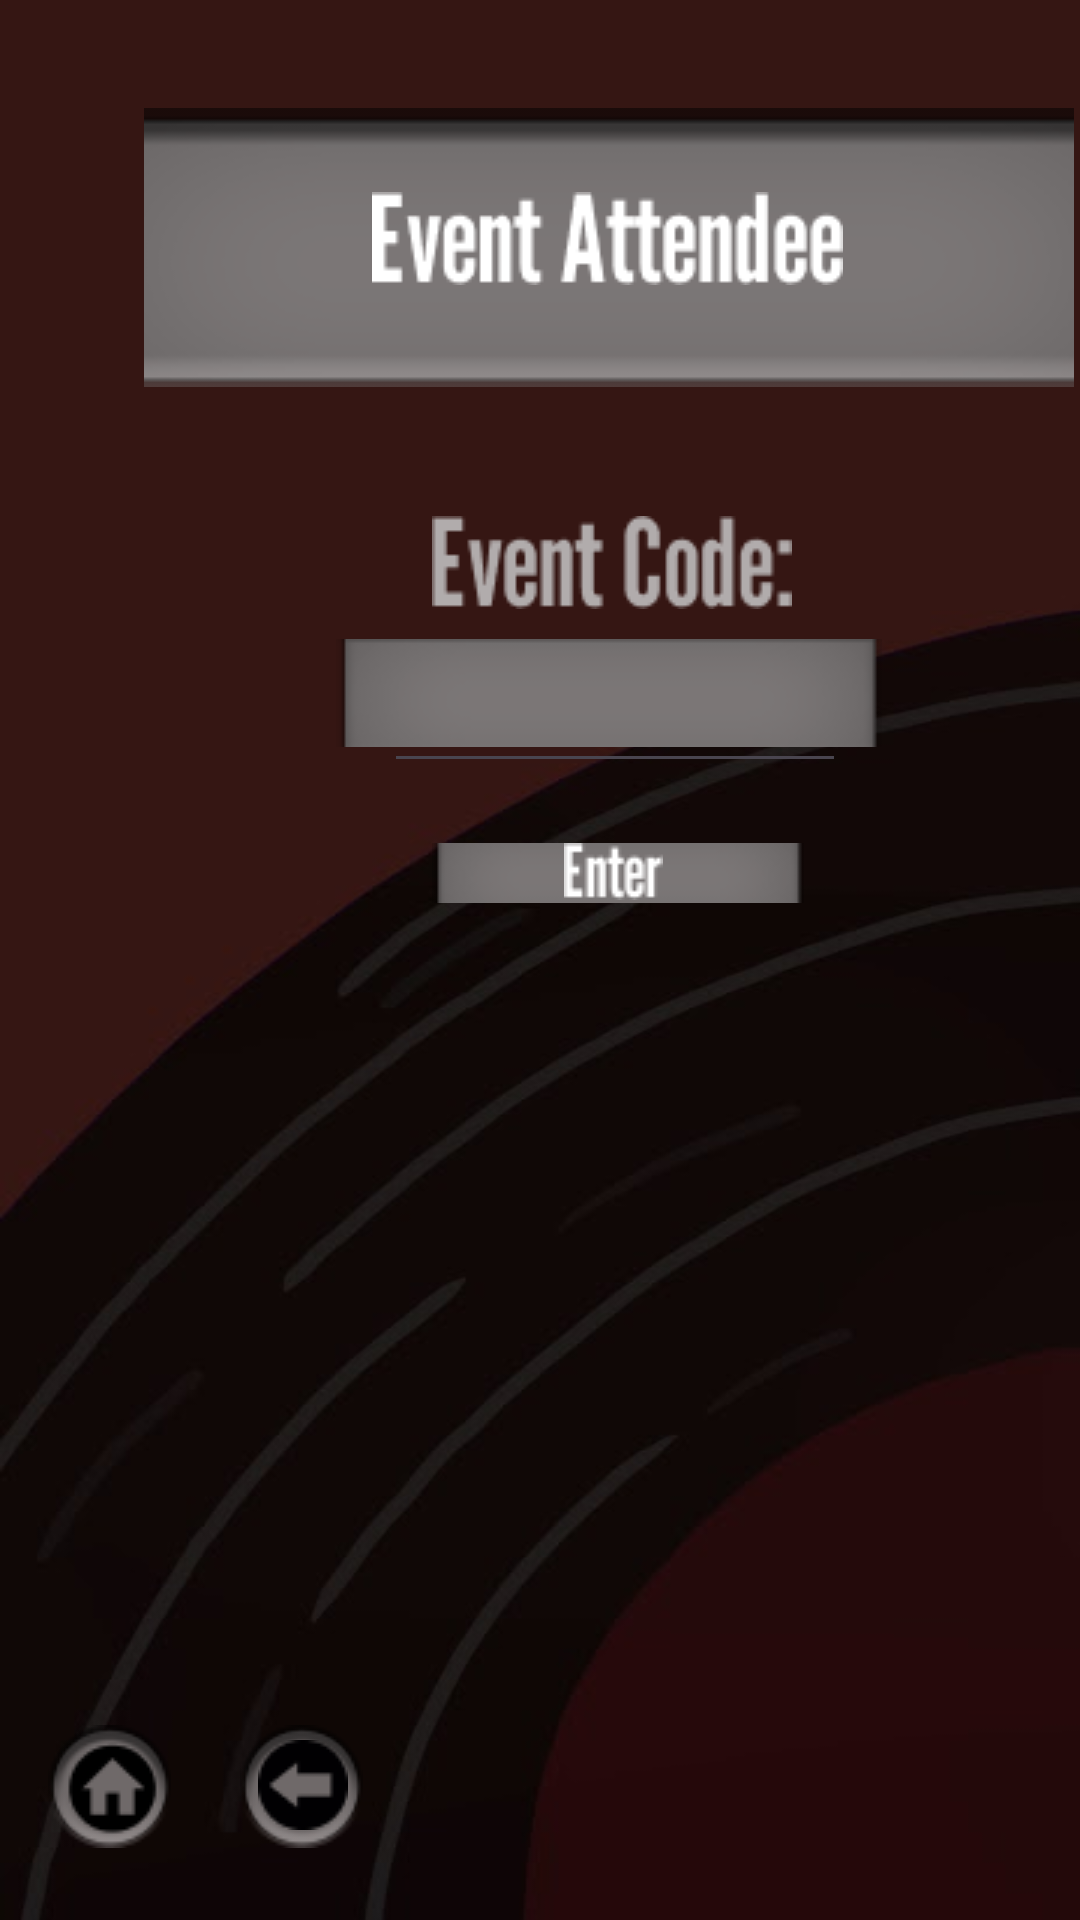

Where to tap for icons on this 1080px×1920px app screen, as (x,y):
back arrow: (303,1785)
home circle: (112,1789)
